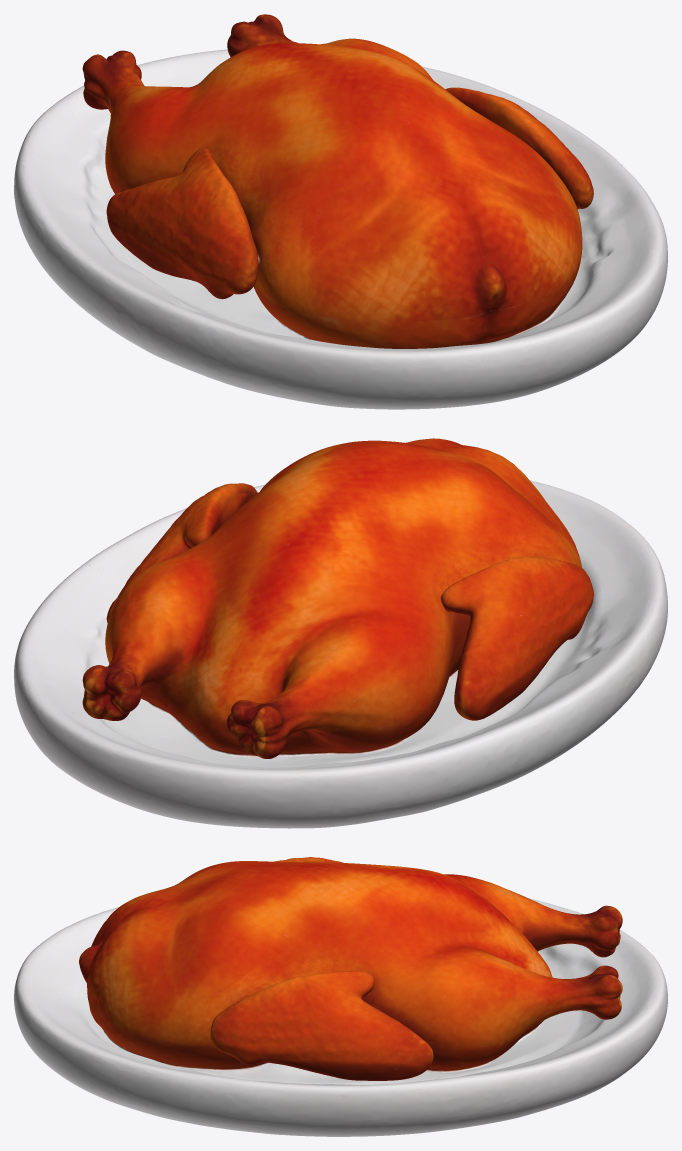
The model's file is peking_duck.glb.
3 views of the same model, one above another, from view 1: azimuth 30°, elevation 25°; view 2: azimuth 150°, elevation 25°; view 3: azimuth 270°, elevation 25° (orthographic). The views are drawn at different scales.
Size of the model in its own units: 1.46 by 0.6457 by 1.9.
Materials: 1 (1 with a texture image).
